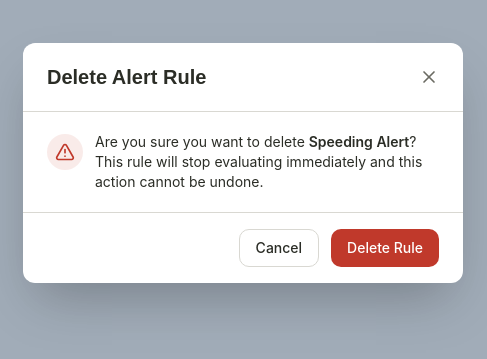
Test: DeleteAlertRuleModal › clears previous error when starting a new delete attempt
Step 1. Click the button "Delete Rule" → [385, 248], box [331,229,439,267]
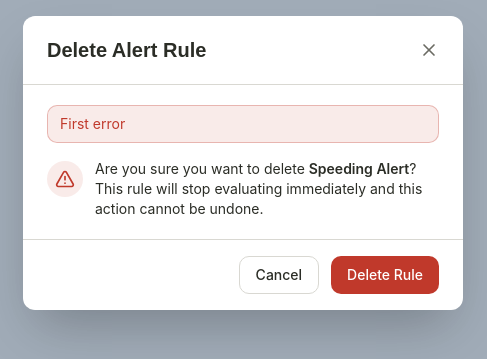
Result: the text "First error" is shown at [47,105,439,143]
Step 2. Click the button "Delete Rule" → [385, 275], box [331,256,439,294]
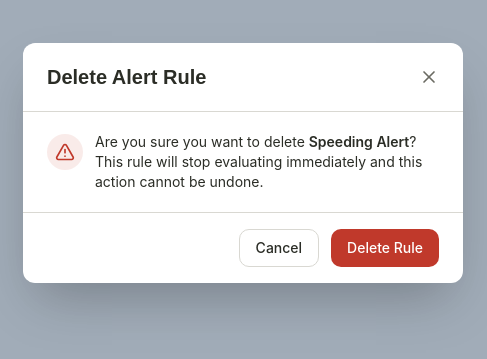
Result: the text "First error" is gone
